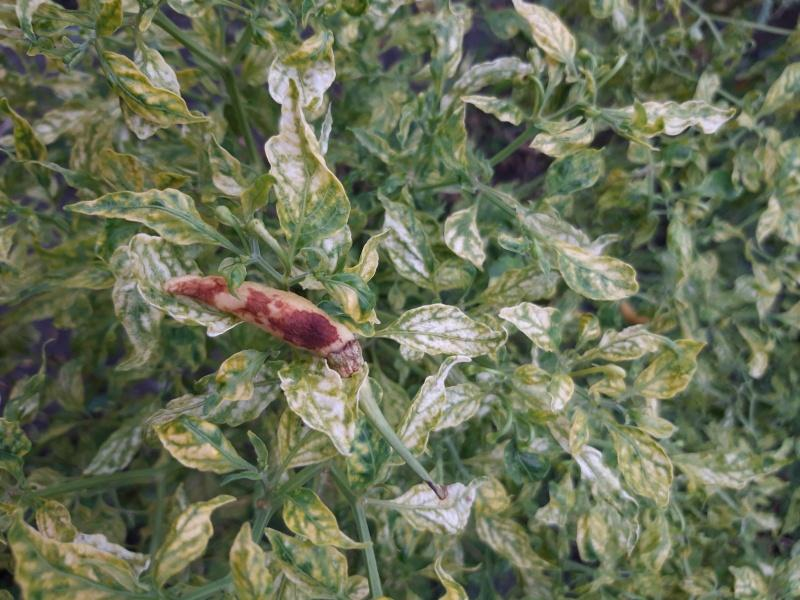antraknosa: (163, 273, 361, 365)
